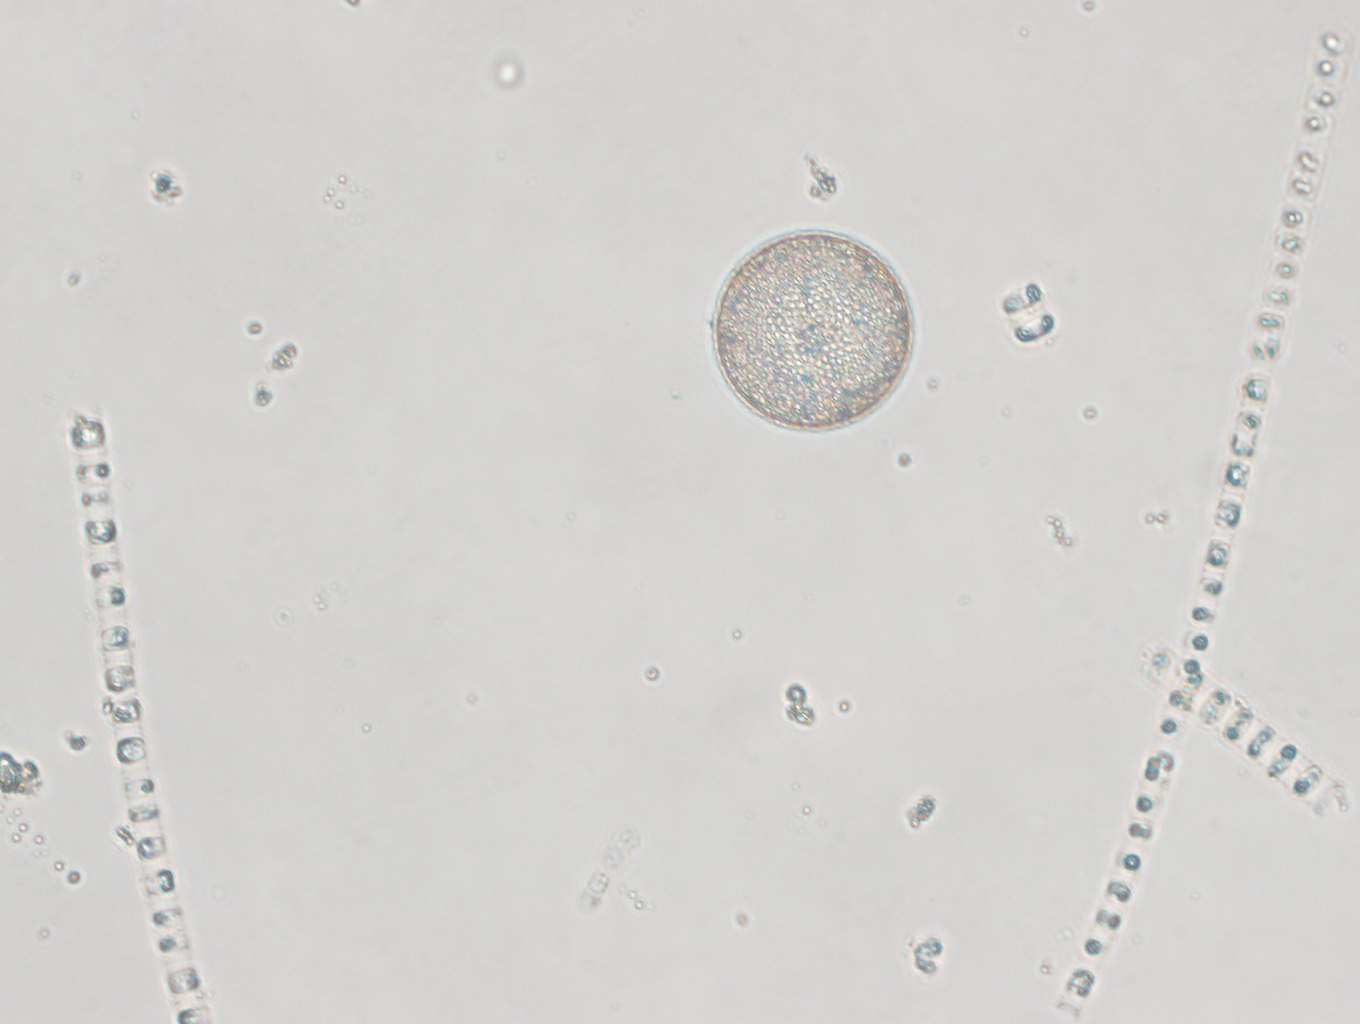coscinodiscus: (713, 226, 917, 435)
skeletonema: (1053, 19, 1352, 1024), (66, 411, 220, 1024), (1133, 638, 1357, 826)
